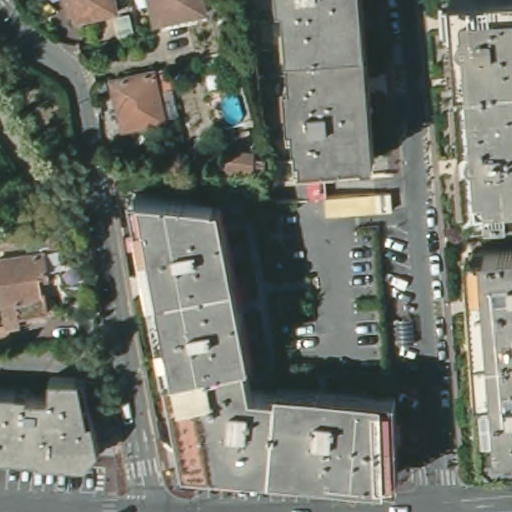pool: (217, 90, 249, 125)
